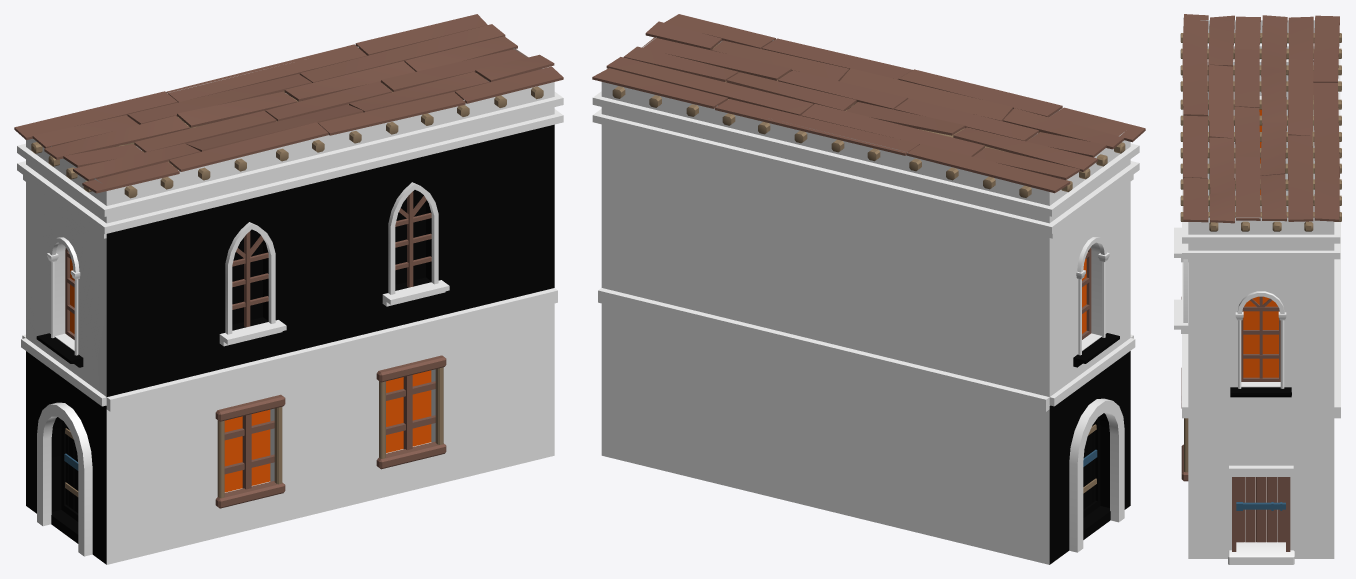
File: civilian_house_36_b.FBX
The picture shows the model from 3 angles, left to right: view 1: azimuth 30°, elevation 25°; view 2: azimuth 150°, elevation 25°; view 3: azimuth 270°, elevation 25°; orthographic projection. The views are drawn at different scales.
Visible parts, largest first — view 1: civilian_house_36_b_LOD0; view 2: civilian_house_36_b_LOD0; view 3: civilian_house_36_b_LOD0.
Boxes of the visible parts, bbox=[...] form: civilian_house_36_b_LOD0: bbox=[14, 14, 563, 564]; civilian_house_36_b_LOD0: bbox=[592, 14, 1145, 564]; civilian_house_36_b_LOD0: bbox=[1174, 14, 1341, 564].
Size of what is drawn, in the model's own units: 1060 by 814 by 360.
